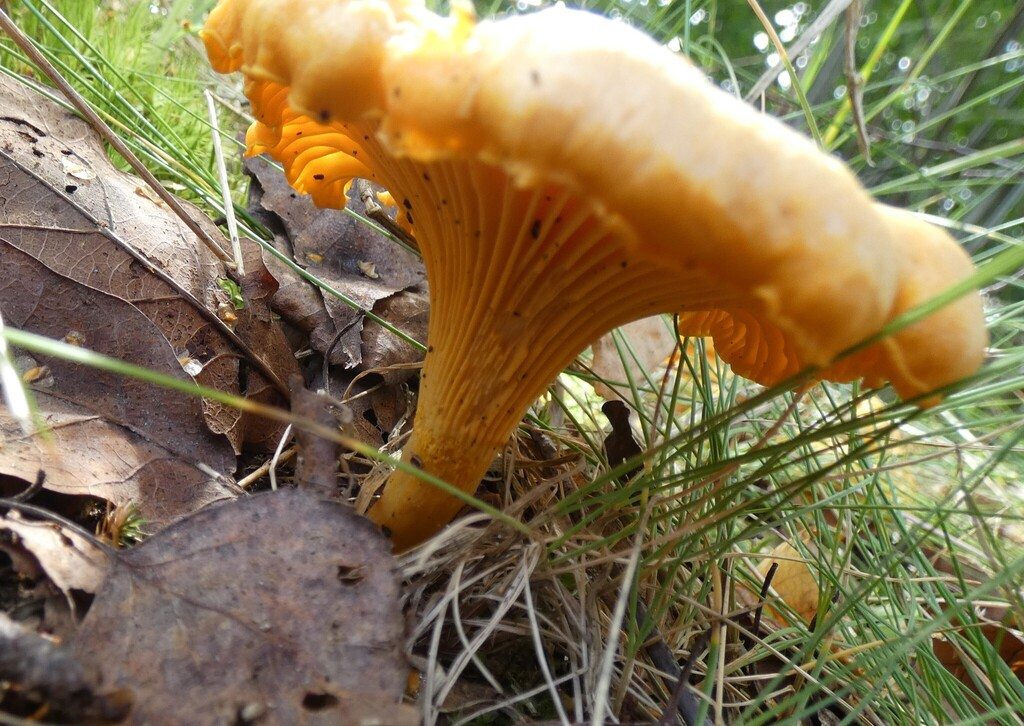cap: (202, 0, 973, 362)
stem: (367, 412, 501, 545)
underside: (247, 82, 800, 452)
